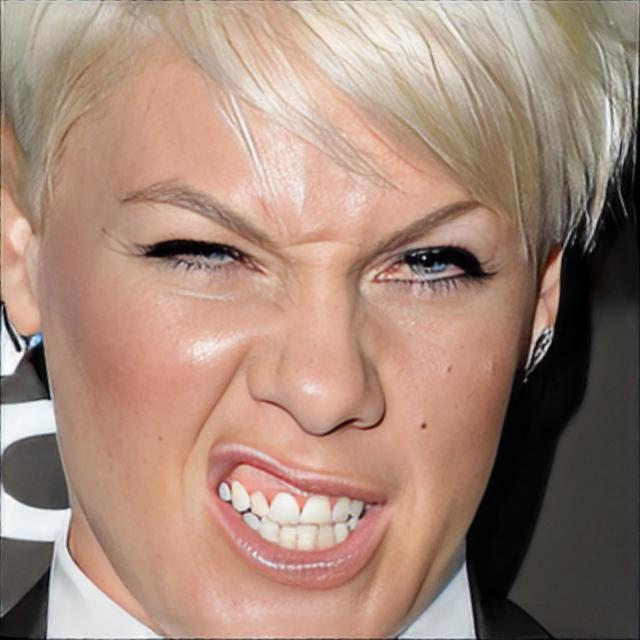anger: (66, 53, 527, 640)
